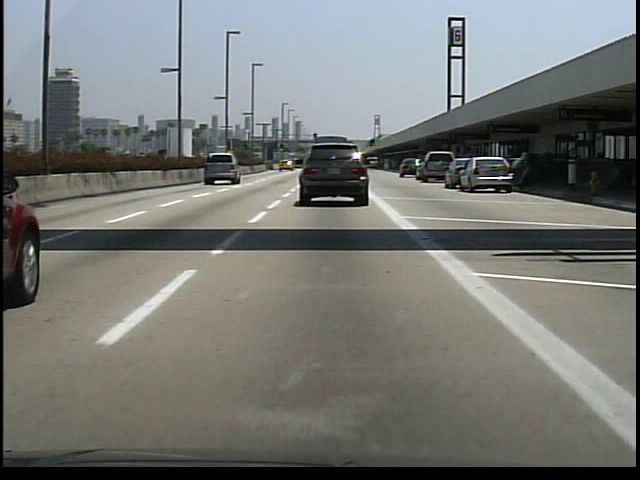person: (512, 148, 538, 191)
